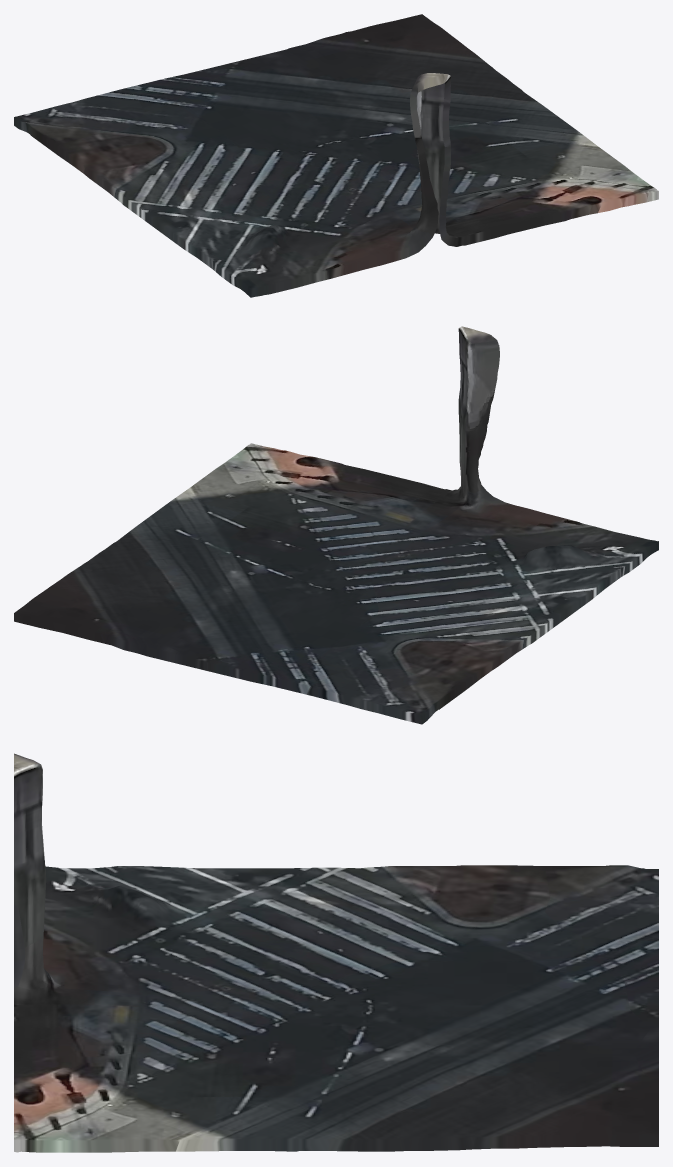
Rendered from z20-167782-405229-h0-yup-uvflip-v3-world.glb.
3 views of the same model, one above another, from view 1: azimuth 30°, elevation 25°; view 2: azimuth 150°, elevation 25°; view 3: azimuth 270°, elevation 25° (orthographic). The views are drawn at different scales.
Bounding box in the file's own units: 30.16 × 12.52 × 30.32.
1 material, 1 textured.
